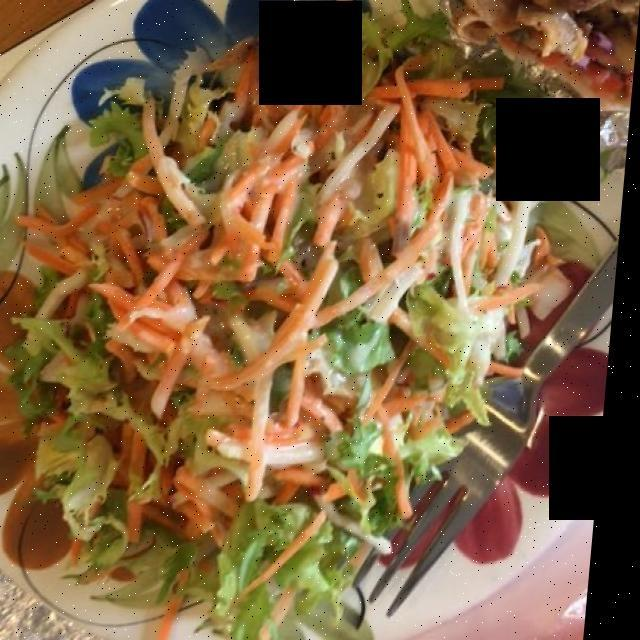carrot: (90, 62, 529, 566)
salad: (32, 13, 605, 611)
